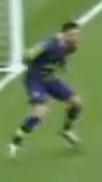goalkeeper: (5, 13, 102, 178)
